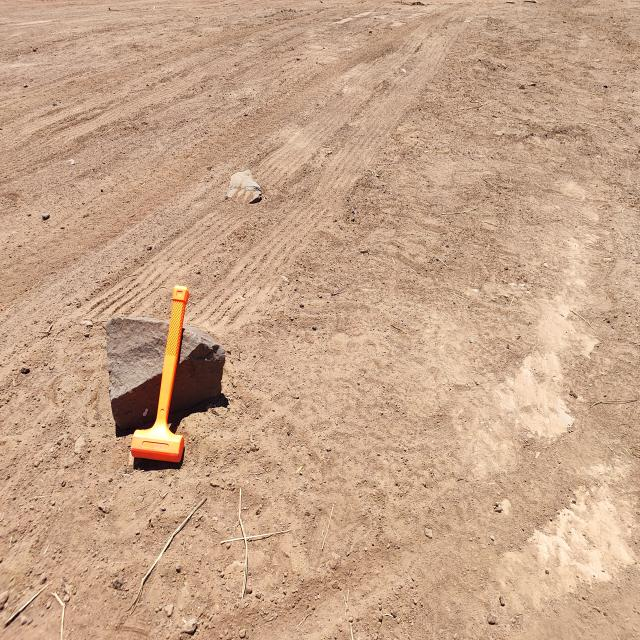Orange_hammer: (130, 284, 190, 464)
